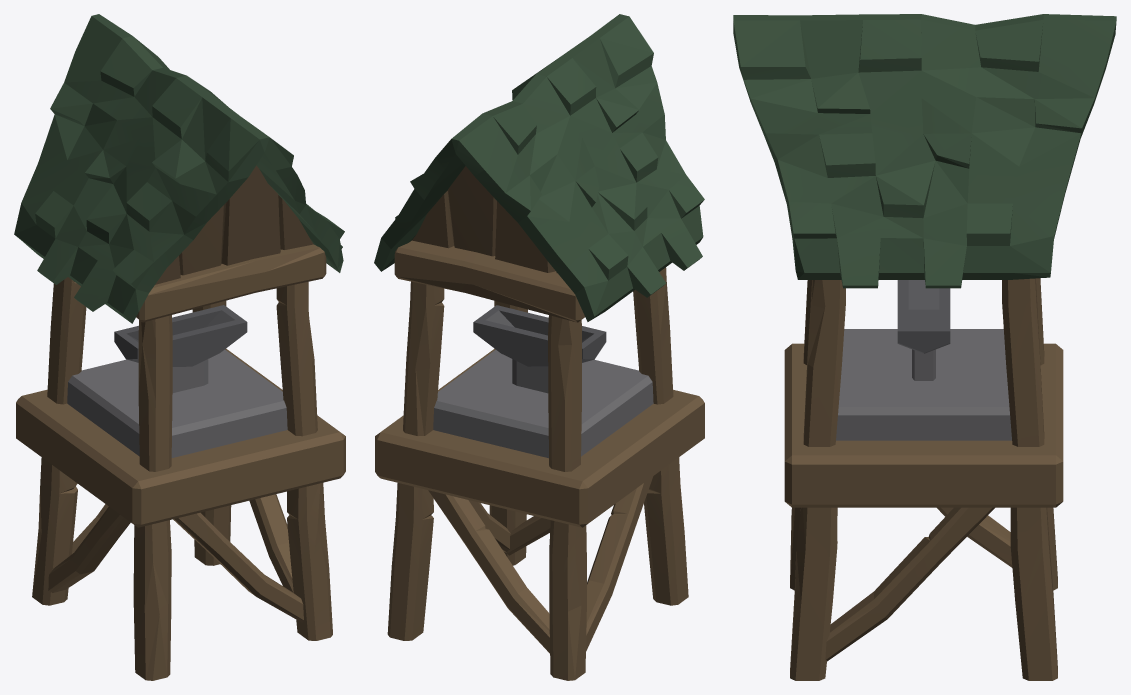
Rendered from Torre_01.glb.
The picture shows the model from 3 angles, left to right: view 1: azimuth 30°, elevation 25°; view 2: azimuth 150°, elevation 25°; view 3: azimuth 270°, elevation 25°; orthographic projection. The views are drawn at different scales.
Parts seen in each view (by area): view 1: SM_Bld_Tower_01; view 2: SM_Bld_Tower_01; view 3: SM_Bld_Tower_01.
Boxes of the visible parts, x1,y1,x2,y2 form: SM_Bld_Tower_01: [14, 14, 345, 680]; SM_Bld_Tower_01: [374, 14, 704, 680]; SM_Bld_Tower_01: [733, 14, 1116, 680].
Size of the model in its own units: 2.78 by 5.65 by 3.21.
Materials: 1 (1 with a texture image).
